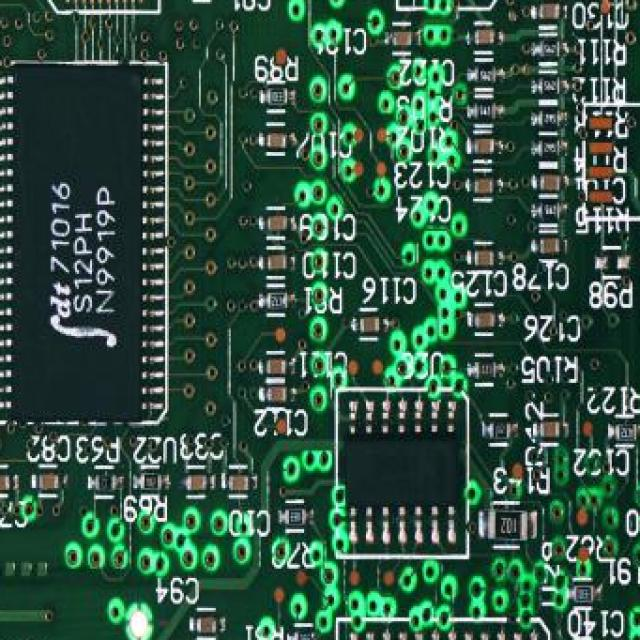IC: (10, 60, 146, 425), (342, 422, 462, 514)
capacitor: (227, 471, 253, 493), (37, 471, 63, 493), (358, 313, 382, 336), (265, 212, 290, 234), (184, 473, 209, 495), (471, 248, 495, 270), (265, 130, 290, 151), (265, 252, 290, 273), (265, 357, 290, 378), (265, 383, 290, 404), (539, 419, 562, 441), (473, 310, 496, 332), (539, 235, 562, 257), (539, 171, 562, 193), (392, 26, 414, 49), (473, 26, 495, 49), (473, 135, 497, 156), (473, 175, 495, 197), (195, 614, 218, 635), (539, 0, 560, 23), (0, 471, 11, 491)
resistor: (486, 509, 529, 544), (473, 99, 497, 124), (537, 37, 561, 62), (537, 73, 561, 98), (94, 471, 118, 496), (488, 420, 512, 445), (473, 64, 497, 88), (539, 107, 563, 131), (539, 137, 563, 161), (539, 199, 563, 223), (475, 358, 499, 382), (616, 420, 639, 445), (266, 86, 291, 109), (283, 505, 307, 528), (267, 289, 289, 313), (141, 471, 163, 495), (572, 582, 595, 604), (292, 628, 315, 640)
